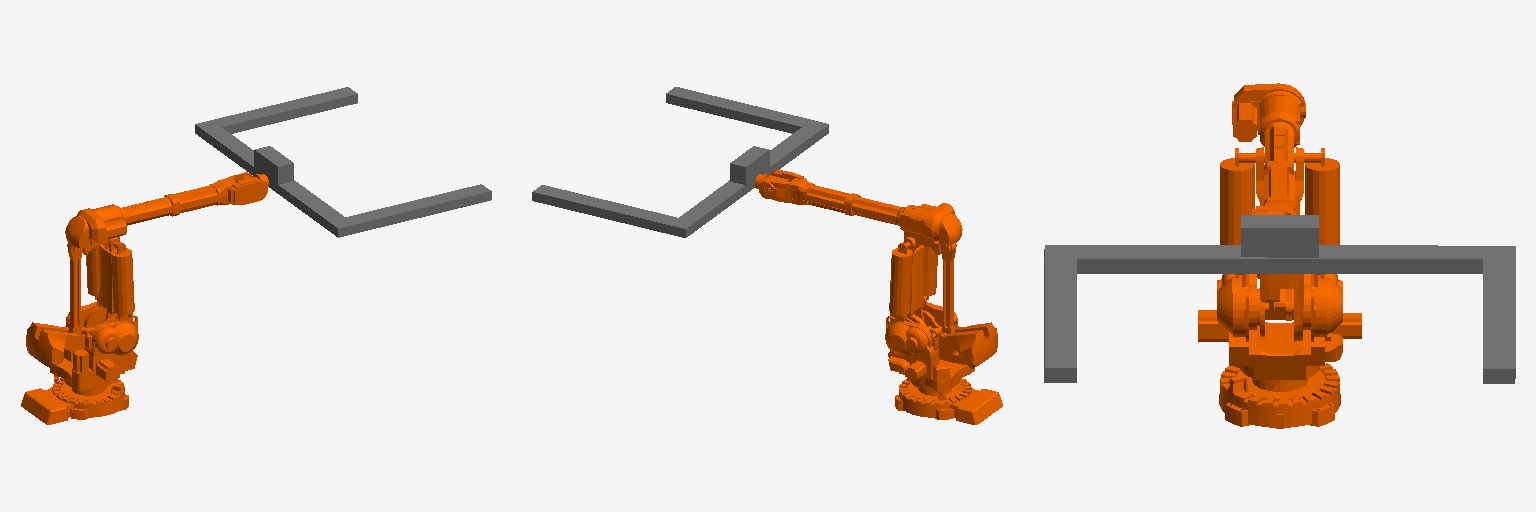
URDF robot description (irb6400r):
<?xml version="1.0" encoding="utf-8"?>
<!-- =================================================================================== -->
<!-- |    This document was autogenerated by xacro from [local-path]/projects/wirecutting_ws/src/wire_cutting_mp/wire_cutting/urdf/wire_cutting_workcell.xacro | -->
<!-- |    EDITING THIS FILE BY HAND IS NOT RECOMMENDED                                 | -->
<!-- =================================================================================== -->
<robot name="irb6400r">
  <!-- link list -->
  <link name="base_link">
    <collision name="collision">
      <geometry>
        <convex_mesh convert="true" filename="package://wire_cutting/meshes/irb6400r/collision/base_link.stl"/>
      </geometry>
      <material name="yellow">
        <color rgba="0 1 1 1"/>
      </material>
    </collision>
    <visual name="visual">
      <geometry>
        <mesh filename="package://wire_cutting/meshes/irb6400r/visual/base_link.stl"/>
      </geometry>
      <material name="orange">
        <color rgba="1 0.43 0 1"/>
      </material>
    </visual>
  </link>
  <link name="link_1">
    <collision name="collision">
      <geometry>
        <convex_mesh convert="true" filename="package://wire_cutting/meshes/irb6400r/collision/link_1.stl"/>
      </geometry>
      <material name="yellow"/>
    </collision>
    <visual name="visual">
      <geometry>
        <mesh filename="package://wire_cutting/meshes/irb6400r/visual/link_1.stl"/>
      </geometry>
      <material name="orange"/>
    </visual>
  </link>
  <link name="link_2">
    <collision name="collision">
      <geometry>
        <convex_mesh convert="true" filename="package://wire_cutting/meshes/irb6400r/collision/link_2.stl"/>
      </geometry>
      <material name="yellow"/>
    </collision>
    <visual name="visual">
      <geometry>
        <mesh filename="package://wire_cutting/meshes/irb6400r/visual/link_2.stl"/>
      </geometry>
      <material name="orange"/>
    </visual>
  </link>
  <link name="link_3">
    <collision name="collision">
      <geometry>
        <convex_mesh convert="true" filename="package://wire_cutting/meshes/irb6400r/collision/link_3.stl"/>
      </geometry>
      <material name="yellow"/>
    </collision>
    <visual name="visual">
      <geometry>
        <mesh filename="package://wire_cutting/meshes/irb6400r/visual/link_3.stl"/>
      </geometry>
      <material name="orange"/>
    </visual>
  </link>
  <link name="link_4">
    <collision name="collision">
      <geometry>
        <convex_mesh convert="true" filename="package://wire_cutting/meshes/irb6400r/collision/link_4.stl"/>
      </geometry>
      <material name="yellow"/>
    </collision>
    <visual name="visual">
      <geometry>
        <mesh filename="package://wire_cutting/meshes/irb6400r/visual/link_4.stl"/>
      </geometry>
      <material name="orange"/>
    </visual>
  </link>
  <link name="link_5">
    <collision name="collision">
      <geometry>
        <convex_mesh convert="true" filename="package://wire_cutting/meshes/irb6400r/collision/link_5.stl"/>
      </geometry>
      <material name="yellow"/>
    </collision>
    <visual name="visual">
      <geometry>
        <mesh filename="package://wire_cutting/meshes/irb6400r/visual/link_5.stl"/>
      </geometry>
      <material name="orange"/>
    </visual>
  </link>
  <link name="link_6">
    <collision name="collision">
      <geometry>
        <convex_mesh convert="true" filename="package://wire_cutting/meshes/irb6400r/collision/link_6.stl"/>
      </geometry>
      <material name="yellow"/>
    </collision>
    <visual name="visual">
      <geometry>
        <mesh filename="package://wire_cutting/meshes/irb6400r/visual/link_6.stl"/>
      </geometry>
      <material name="orange"/>
    </visual>
  </link>
  <link name="tool0"/>
  <!--<link name="${prefix}carbon_hotwire" >
      <collision>
        <geometry>
          <convex_mesh filename="package://wire_cutting/meshes/carbon_hotwire.stl" />
        </geometry>
        <material name="yellow"/>
      </collision>
      <visual>
        <geometry>
          <mesh filename="package://wire_cutting/meshes/carbon_hotwire.stl" />
        </geometry>>
      </visual>
    </link>-->
  <joint name="joint_1" type="revolute">
    <origin rpy="0 0 0" xyz="0 0 0.27"/>
    <axis xyz="0 0 1"/>
    <parent link="base_link"/>
    <child link="link_1"/>
    <limit effort="0" lower="-3.14" upper="3.14" velocity="1.57"/>
  </joint>
  <joint name="joint_2" type="revolute">
    <origin rpy="0 0 0" xyz="0.240 0. 0.53"/>
    <axis xyz="0 1 0"/>
    <parent link="link_1"/>
    <child link="link_2"/>
    <limit effort="0" lower="-1.22" upper="1.48" velocity="1.22"/>
  </joint>
  <joint name="joint_3" type="revolute">
    <origin rpy="0 0 0" xyz="0 0 1.05"/>
    <axis xyz="0 1 0"/>
    <parent link="link_2"/>
    <child link="link_3"/>
    <limit effort="0" lower="-3.14" upper="3.14" velocity="1.22"/>
    <!-- Limits defined by constraints due to parallel link-->
  </joint>
  <joint name="joint_4" type="revolute">
    <origin rpy="0 0 0" xyz="0.0 0 0.225"/>
    <axis xyz="1 0 0"/>
    <parent link="link_3"/>
    <child link="link_4"/>
    <limit effort="0" lower="-5.23" upper="5.23" velocity="1.91"/>
  </joint>
  <joint name="joint_5" type="revolute">
    <origin rpy="0 0 0" xyz="1.725 0 0 "/>
    <axis xyz="0 1 0"/>
    <parent link="link_4"/>
    <child link="link_5"/>
    <limit effort="0" lower="-2.094" upper="2.094" velocity="1.91"/>
  </joint>
  <!-- TODO verify 0.145! -->
  <joint name="joint_6" type="revolute">
    <origin rpy="0 0 0" xyz="0.145 0 0 "/>
    <axis xyz="1 0 0"/>
    <parent link="link_5"/>
    <child link="link_6"/>
    <limit effort="0" lower="-5.23" upper="5.23" velocity="1.91"/>
  </joint>
  <joint name="joint_6-tool0" type="fixed">
    <parent link="link_6"/>
    <child link="tool0"/>
    <origin rpy="0 1.57079632679 0" xyz=".037 0 0"/>
  </joint>
  <!--<joint type="fixed" name="${prefix}tool0-carbon_hotwire">
      <parent link="${prefix}tool0"/>
      <child link="${prefix}carbon_hotwire"/>
      <origin xyz="0 0 1.861" rpy="0 0 0"/>
    </joint>-->
  <!-- ROS base_link to ABB World Coordinates transform -->
  <link name="base"/>
  <joint name="base_link-base" type="fixed">
    <origin rpy="0 0 0" xyz="0 0 0"/>
    <parent link="base_link"/>
    <child link="base"/>
  </joint>
  <link name="carbon_hotwire_mount"/>
  <link name="carbon_hotwire">
    <collision>
      <geometry>
        <convex_mesh convert="true" filename="package://wire_cutting/meshes/CH_top.stl"/>
      </geometry>
      <material name="yellow"/>
    </collision>
    <visual>
      <geometry>
        <mesh filename="package://wire_cutting/meshes/CH_top.stl"/>
      </geometry>
      &gt;
      <material name="grey">
        <color rgba="0.5 0.5 0.5 1"/>
      </material>
    </visual>
  </link>
  <joint name="mount" type="fixed">
    <parent link="carbon_hotwire_mount"/>
    <child link="carbon_hotwire"/>
    <origin rpy="0 0 0" xyz="0 0 1.861"/>
  </joint>
  <link name="CH_left">
    <collision>
      <geometry>
        <convex_mesh convert="true" filename="package://wire_cutting/meshes/CH_left.stl"/>
      </geometry>
    </collision>
    <visual>
      <material name="grey"/>
      <geometry>
        <mesh filename="package://wire_cutting/meshes/CH_left.stl"/>
      </geometry>
      &gt;
      
    </visual>
  </link>
  <link name="CH_right">
    <collision>
      <geometry>
        <convex_mesh convert="true" filename="package://wire_cutting/meshes/CH_right.stl"/>
      </geometry>
      <material name="yellow"/>
    </collision>
    <visual>
    <material name="grey"/>
      <geometry>
        <mesh filename="package://wire_cutting/meshes/CH_right.stl"/>
      </geometry>
      &gt;
      
    </visual>
  </link>
  <joint name="top-left" type="fixed">
    <parent link="carbon_hotwire"/>
    <child link="CH_left"/>
    <origin rpy="0 0 0" xyz="0 0 0"/>
  </joint>
  <joint name="top-right" type="fixed">
    <parent link="carbon_hotwire"/>
    <child link="CH_right"/>
    <origin rpy="0 0 0" xyz="0 0 0"/>
  </joint>
  <joint name="tool" type="fixed">
    <parent link="tool0"/>
    <child link="carbon_hotwire_mount"/>
    <origin rpy="0 0 3.14" xyz="0 0 0"/>
  </joint>
</robot>

--- Render facts (derived) ---
3 views of the same robot in one strip: view 1: azimuth 30°, elevation 25°; view 2: azimuth 150°, elevation 25°; view 3: azimuth 270°, elevation 25° (orthographic).
Model irb6400r with 13 links and 12 joints (6 revolute, 6 fixed), rooted at base_link, posed all joints at 0.
Links seen in each view (by area): view 1: link_1, carbon_hotwire, link_2, base_link, link_4, CH_right, CH_left, link_3; view 2: link_1, carbon_hotwire, link_2, base_link, link_4, CH_left, CH_right, link_3; view 3: carbon_hotwire, link_1, link_2, base_link, CH_left, CH_right, link_3, link_4.
Link boxes in pixels (x1,y1,x2,y2): link_1: (26,296,138,390); carbon_hotwire: (195,120,354,237); link_2: (68,237,134,333); base_link: (21,378,128,424); link_4: (121,172,267,225); CH_right: (346,184,491,233); CH_left: (213,87,357,133); link_3: (65,204,126,254); link_1: (885,296,997,400); carbon_hotwire: (669,120,828,237); link_2: (889,237,955,333); base_link: (895,378,1002,424); link_4: (759,170,903,225); CH_left: (532,185,677,233); CH_right: (666,87,810,133); link_3: (899,203,962,254); carbon_hotwire: (1044,215,1515,273); link_1: (1198,274,1361,382); link_2: (1220,147,1339,341); base_link: (1219,363,1340,428); CH_left: (1483,259,1515,383); CH_right: (1044,259,1076,382); link_3: (1232,83,1320,162); link_4: (1252,122,1295,214).
Bounding box of the posed robot: 4.69 × 3.01 × 2.34 m (x, y, z).
10 mesh visuals loaded from 10 distinct referenced files (10 binary STL).
